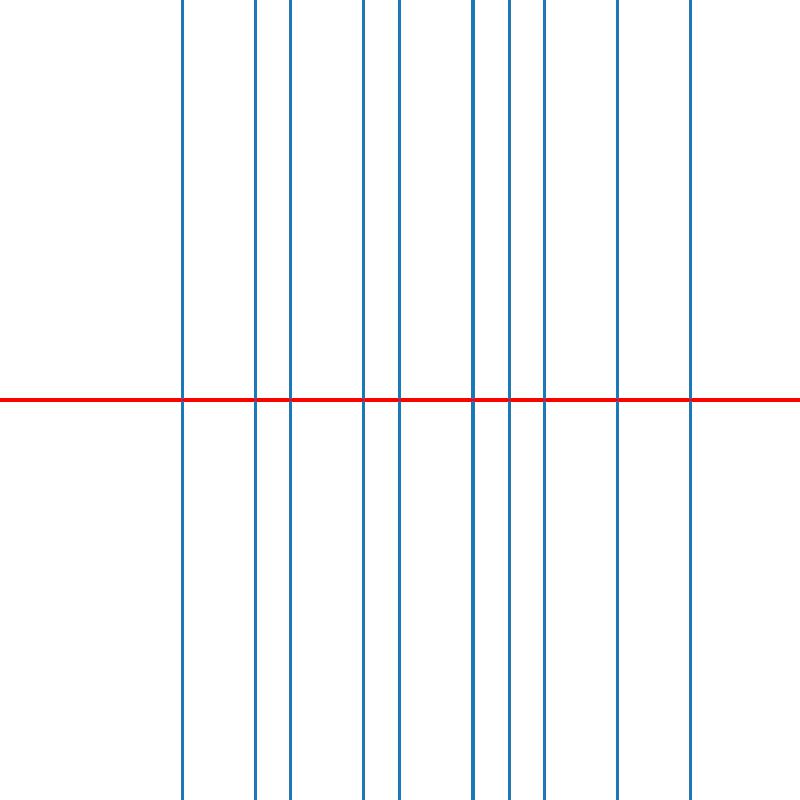root: (541, 396, 549, 404), (250, 396, 258, 404), (469, 396, 476, 404), (396, 396, 403, 404), (178, 396, 185, 404), (687, 396, 694, 404), (614, 396, 621, 404), (360, 396, 367, 404), (505, 396, 512, 404), (287, 396, 294, 404)
